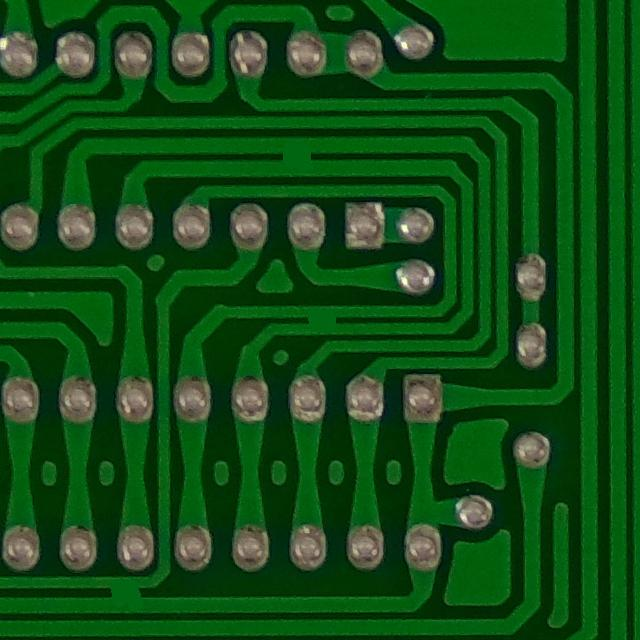short: (287, 294, 354, 347)
